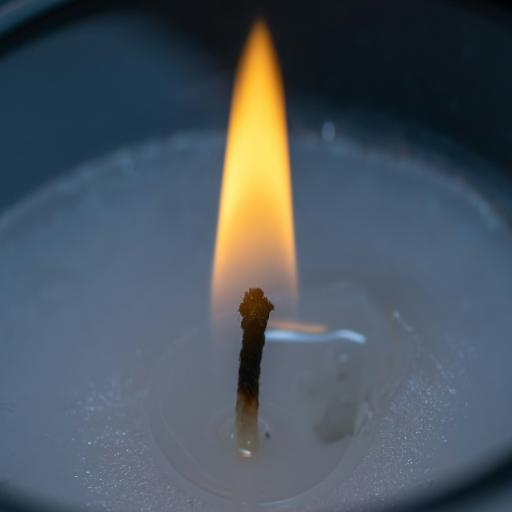fire: (213, 15, 297, 330)
